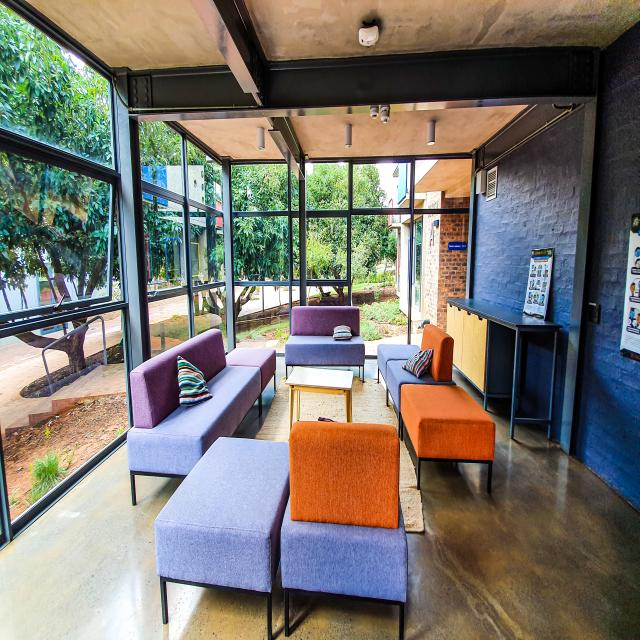floor: (404, 397, 640, 640), (0, 442, 267, 640), (271, 558, 399, 640), (231, 356, 286, 439), (452, 365, 485, 410), (403, 422, 418, 481), (300, 366, 359, 378), (388, 390, 399, 423), (364, 358, 378, 378), (379, 370, 386, 393), (287, 366, 295, 378), (360, 367, 363, 378)
wall: (264, 47, 605, 456), (472, 106, 586, 443), (576, 20, 640, 512), (116, 68, 143, 370), (149, 64, 257, 108), (437, 214, 469, 332), (420, 214, 441, 327), (441, 191, 470, 208), (427, 191, 441, 209)
